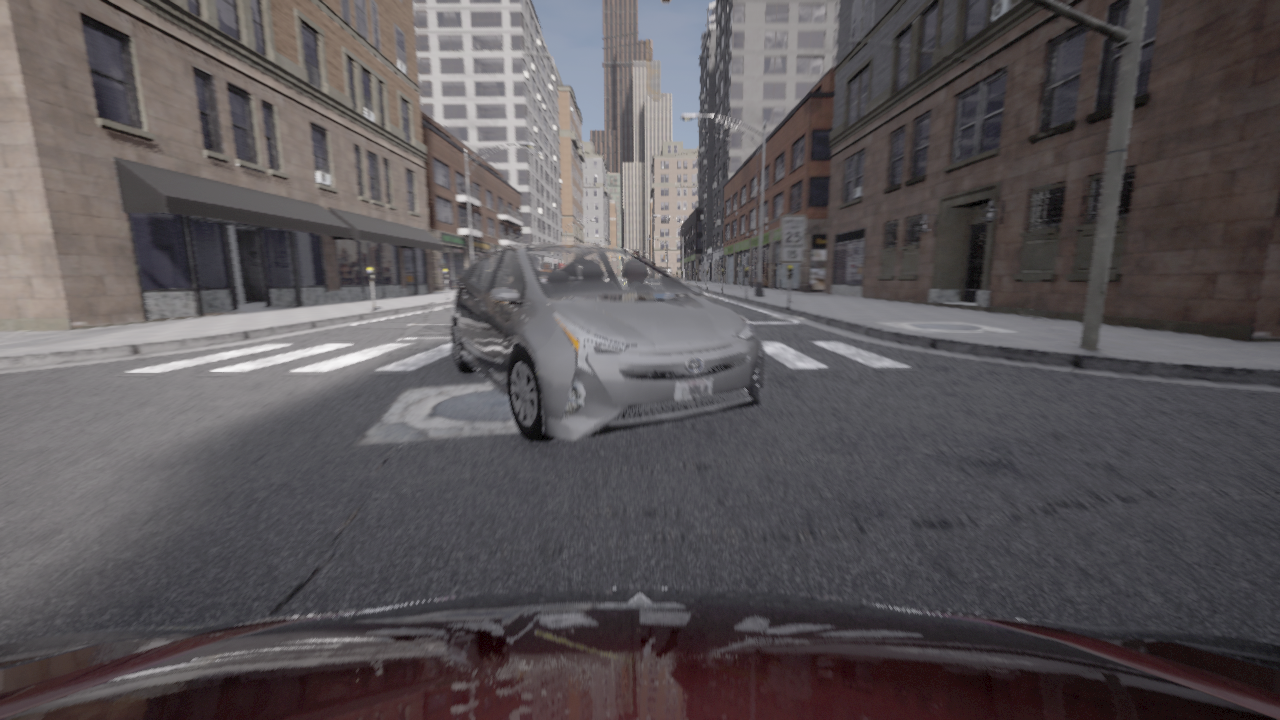cyclist: (0, 588, 1279, 719), (451, 244, 764, 441)
